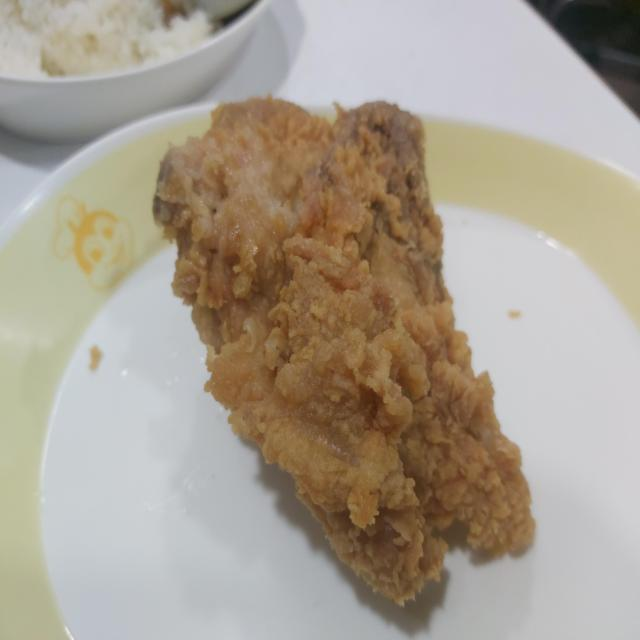Chicken -Fried Chicken-: (162, 77, 535, 574)
